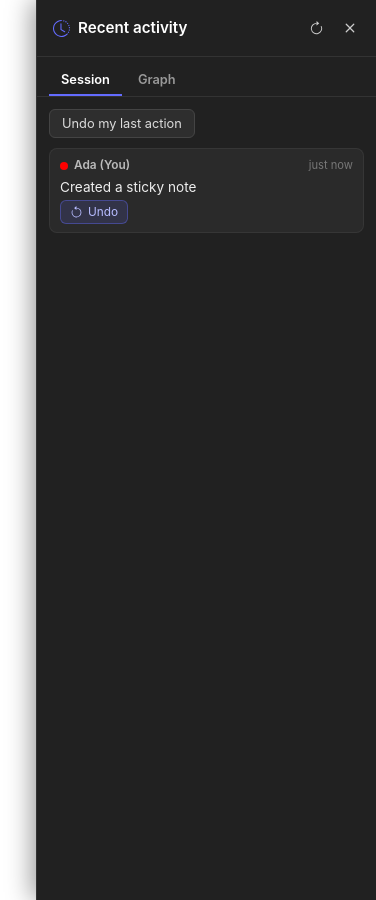
it: ActivityDrawer › shows conflict feedback distinctly from a generic failure
Expected: the text "Created a sticky note" is shown, [60,179,196,195]
Click the button "Undo my last action": (122, 124) [49,109,195,138]
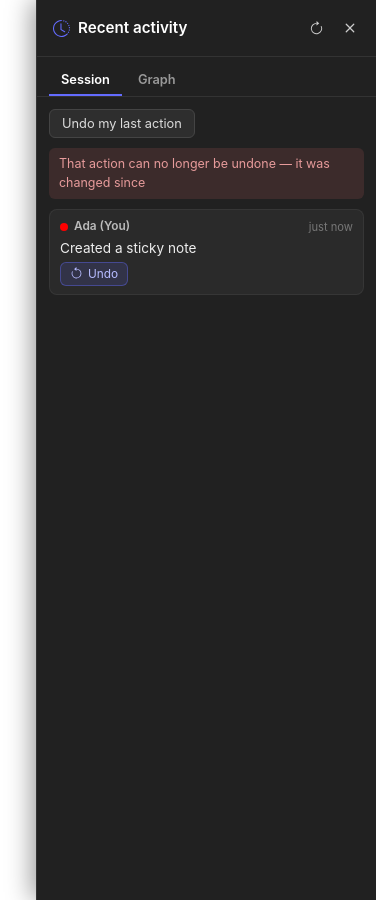
Now the text "That action can no longer be undone — it was changed since" is shown, box [49,148,364,199]
